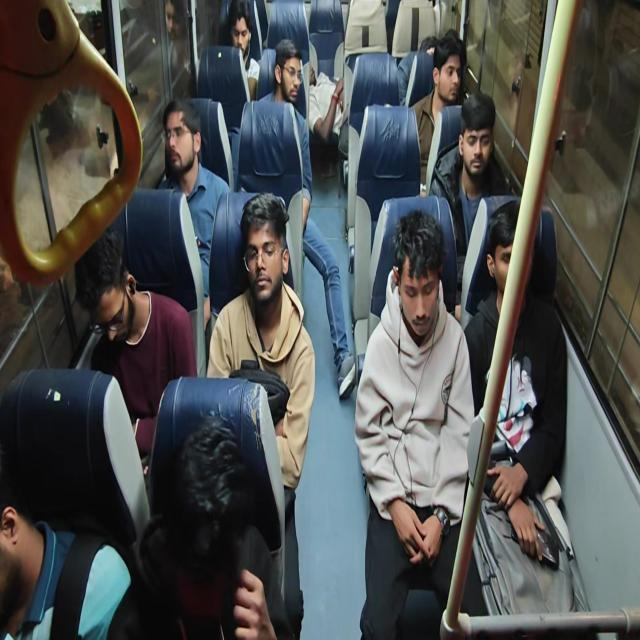person: (354, 208, 475, 638), (206, 191, 316, 637), (463, 198, 575, 616), (106, 413, 286, 639), (257, 38, 357, 400), (74, 226, 198, 459), (0, 482, 134, 639), (426, 90, 514, 306), (155, 97, 231, 324), (409, 30, 467, 192), (225, 0, 260, 102), (397, 34, 438, 106), (163, 1, 193, 98)
